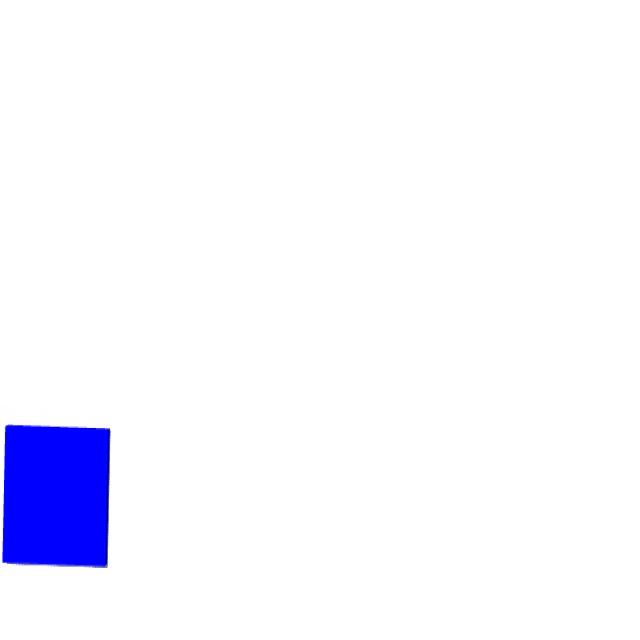blue_square: (4, 425, 109, 566)
